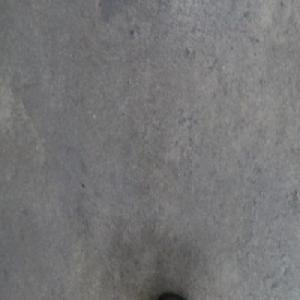AdjustableWrench: (153, 286, 190, 298)
